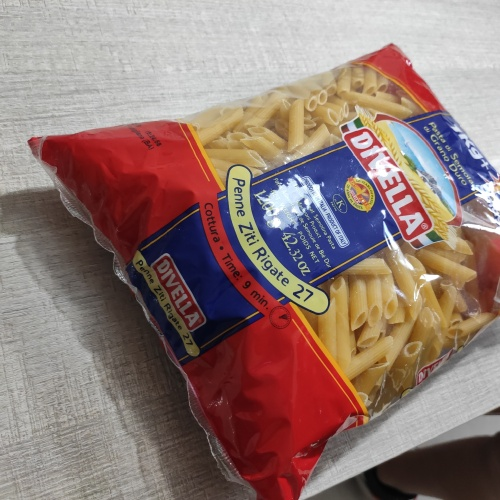pasta: (109, 105, 469, 420)
